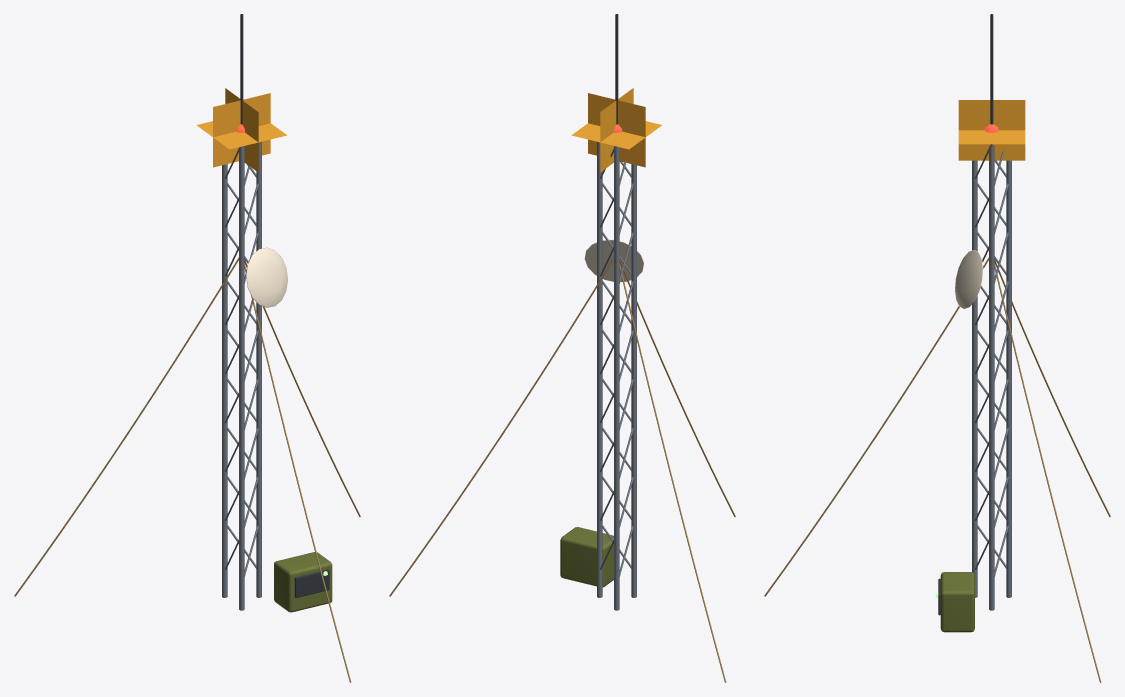
The model's file is jungle_radio_mast.glb.
The picture shows the model from 3 angles, left to right: view 1: azimuth 30°, elevation 25°; view 2: azimuth 150°, elevation 25°; view 3: azimuth 270°, elevation 25°; orthographic projection.
Parts seen in each view (by area): view 1: RadioMast; view 2: RadioMast; view 3: RadioMast.
Boxes of the visible parts, left/top/right/bottom form: RadioMast: left=14, top=14, right=360, bottom=682; RadioMast: left=389, top=14, right=735, bottom=682; RadioMast: left=764, top=14, right=1110, bottom=682.
Size of the model in its own units: 6.95 by 11.4 by 6.1.
